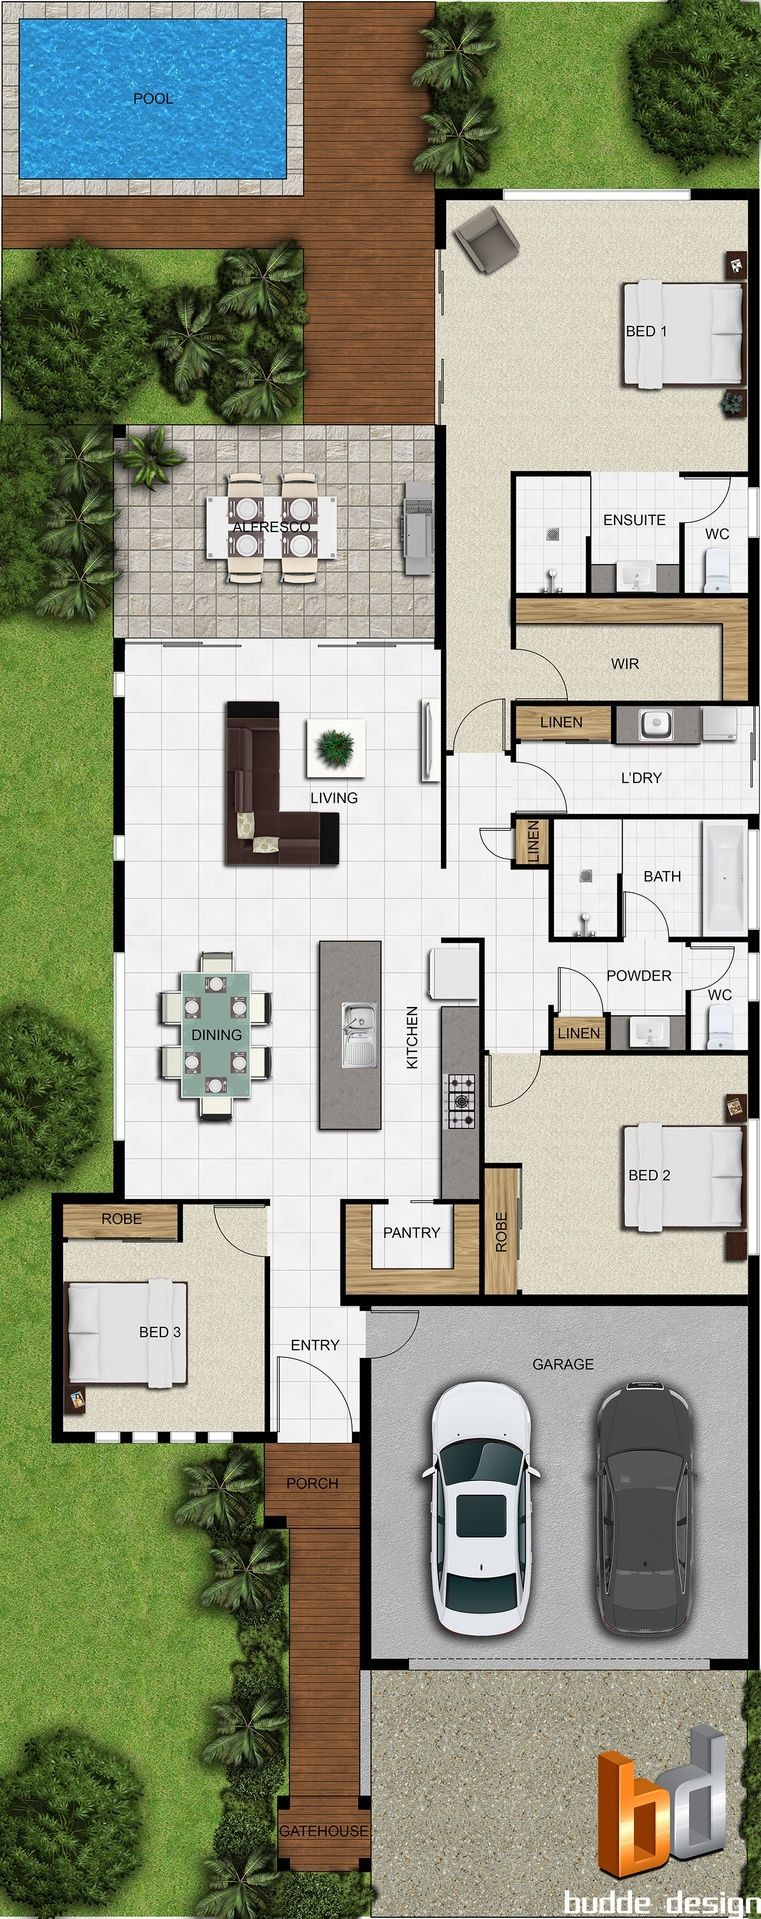door: (273, 1349, 357, 1429), (210, 1201, 264, 1265), (516, 644, 575, 702), (450, 695, 508, 749), (486, 1057, 544, 1110), (518, 758, 574, 811), (373, 1306, 423, 1358), (459, 815, 509, 868), (691, 942, 741, 995), (622, 885, 672, 937), (553, 955, 603, 1007), (683, 474, 737, 523)
